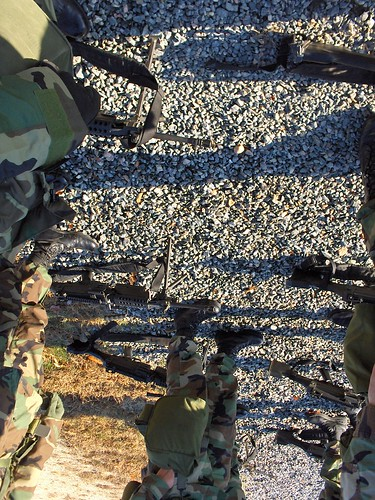weapon: (100, 88, 222, 166), (46, 262, 223, 315), (58, 335, 235, 388)
